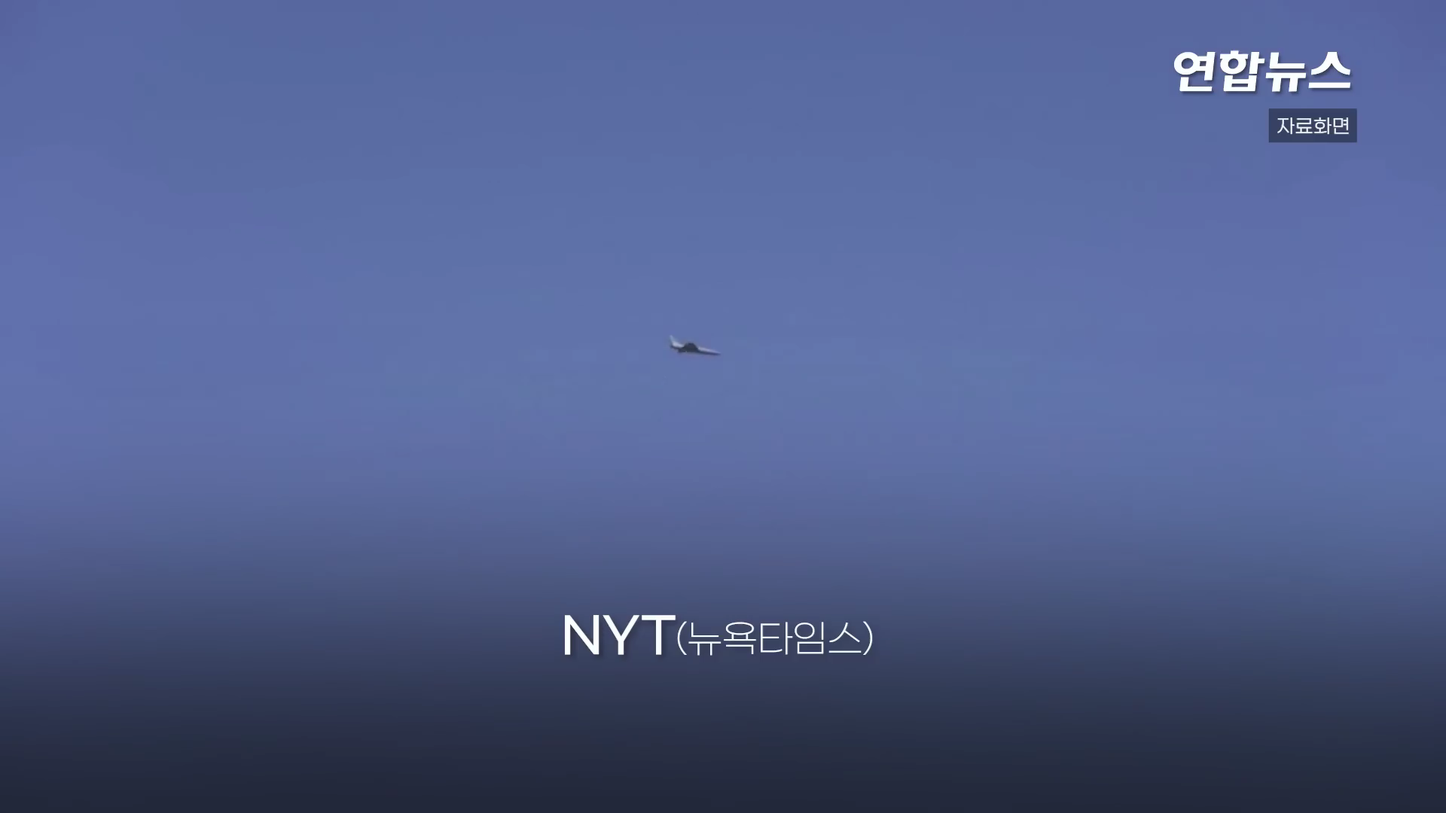shahed: (672, 338, 722, 358)
